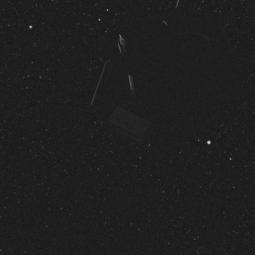cheops: (101, 0, 231, 135)
